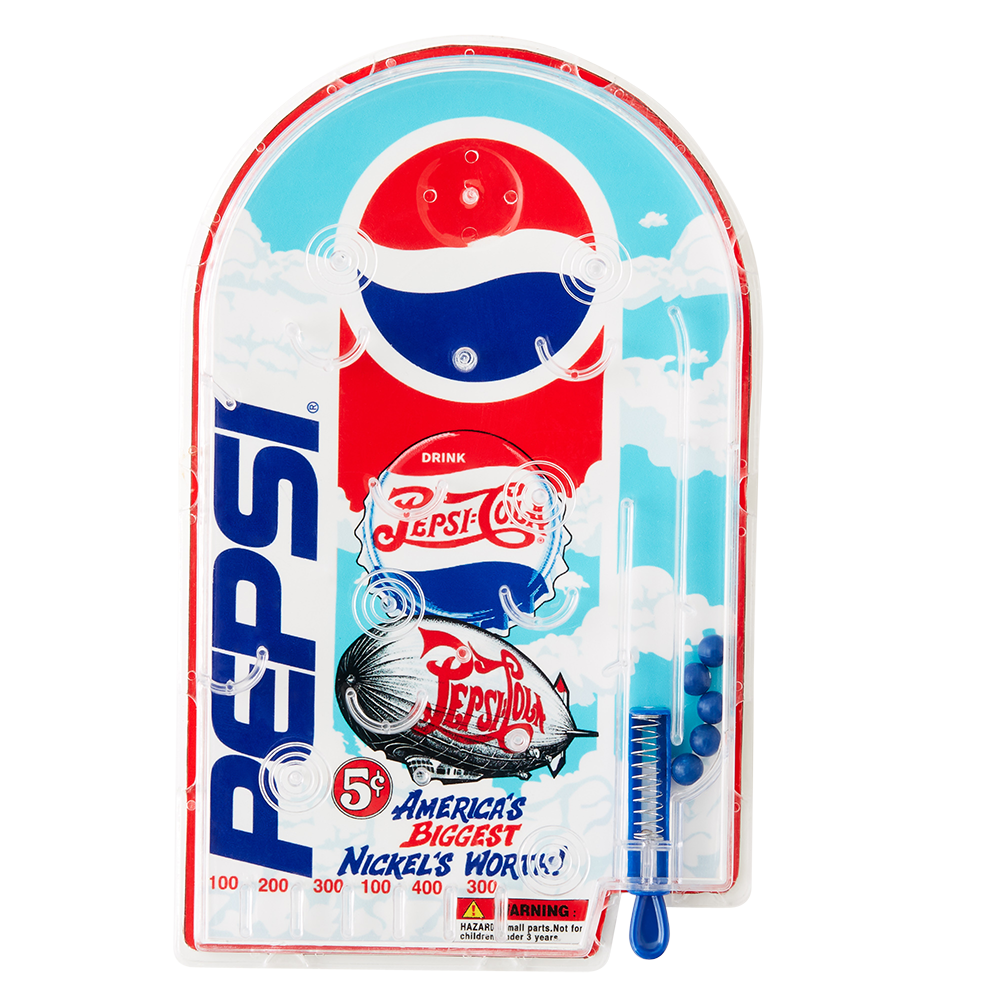pepsi: (334, 117, 616, 399), (334, 129, 616, 399), (351, 129, 616, 399)
